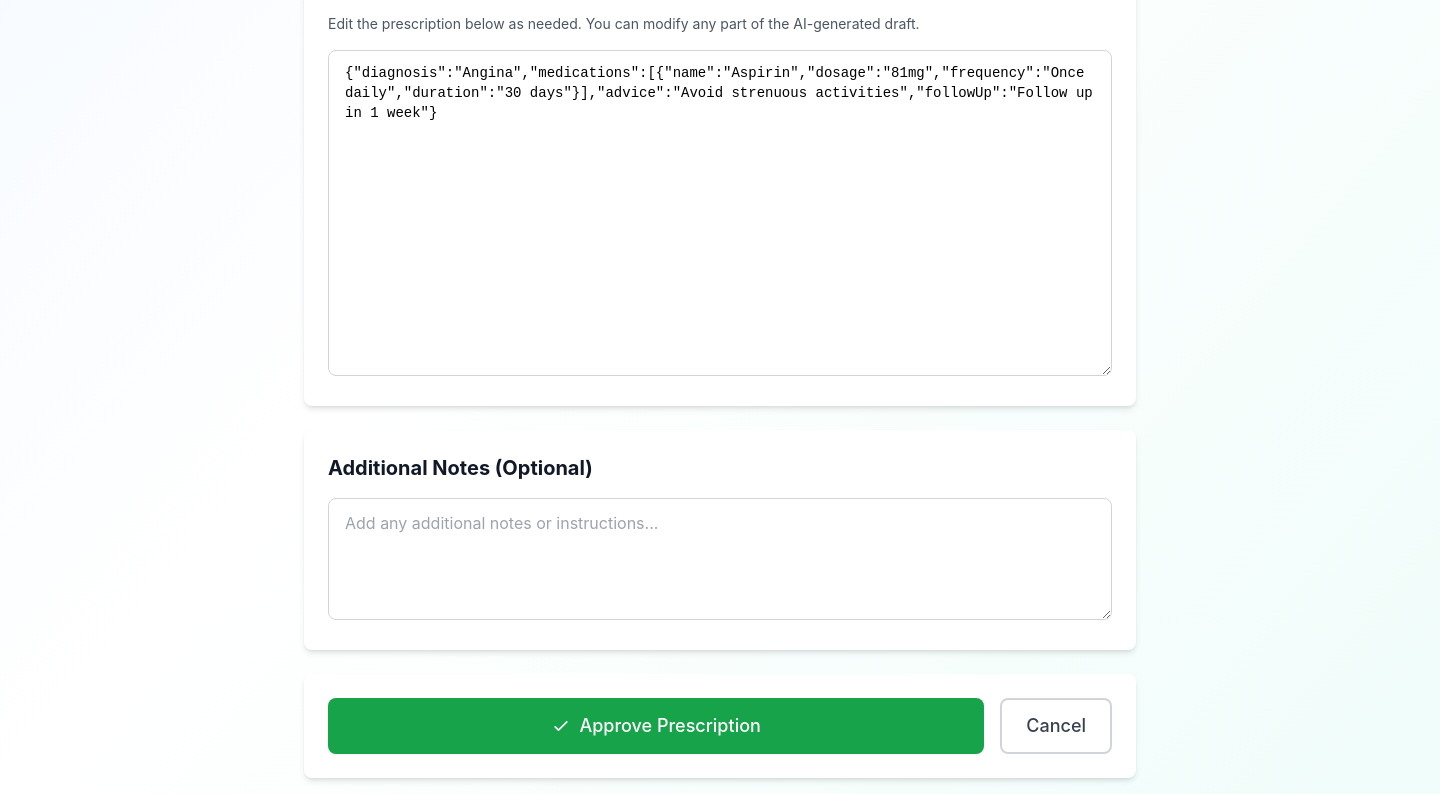
Test: PrescriptionReviewForm Component › displays error message on approval failure
(page scrolled)
Click the button "Approve Prescription" at (656, 726), box [328, 698, 984, 754]
(page scrolled)
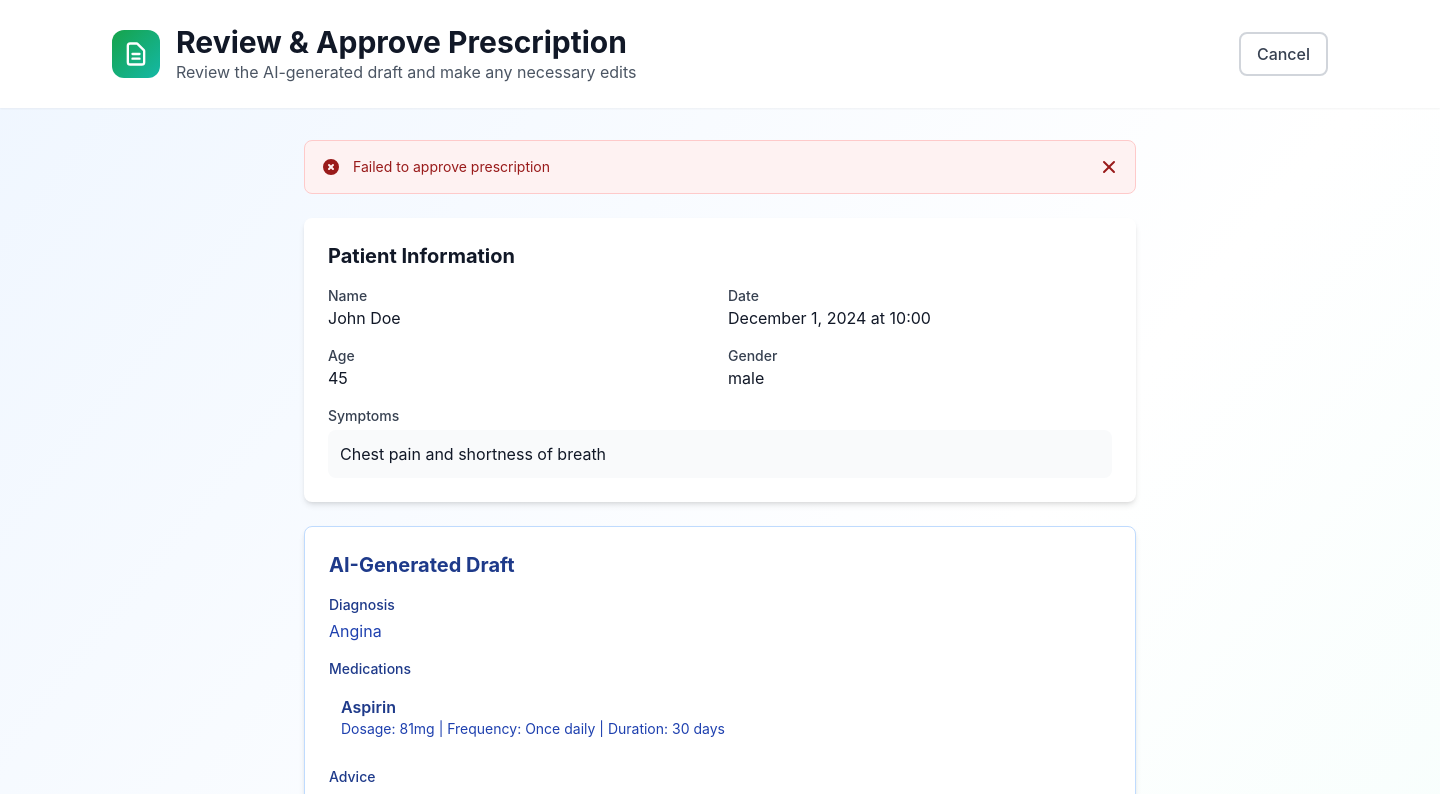
expect the text "Failed to approve prescription" is shown: met, box [353, 158, 550, 175]
